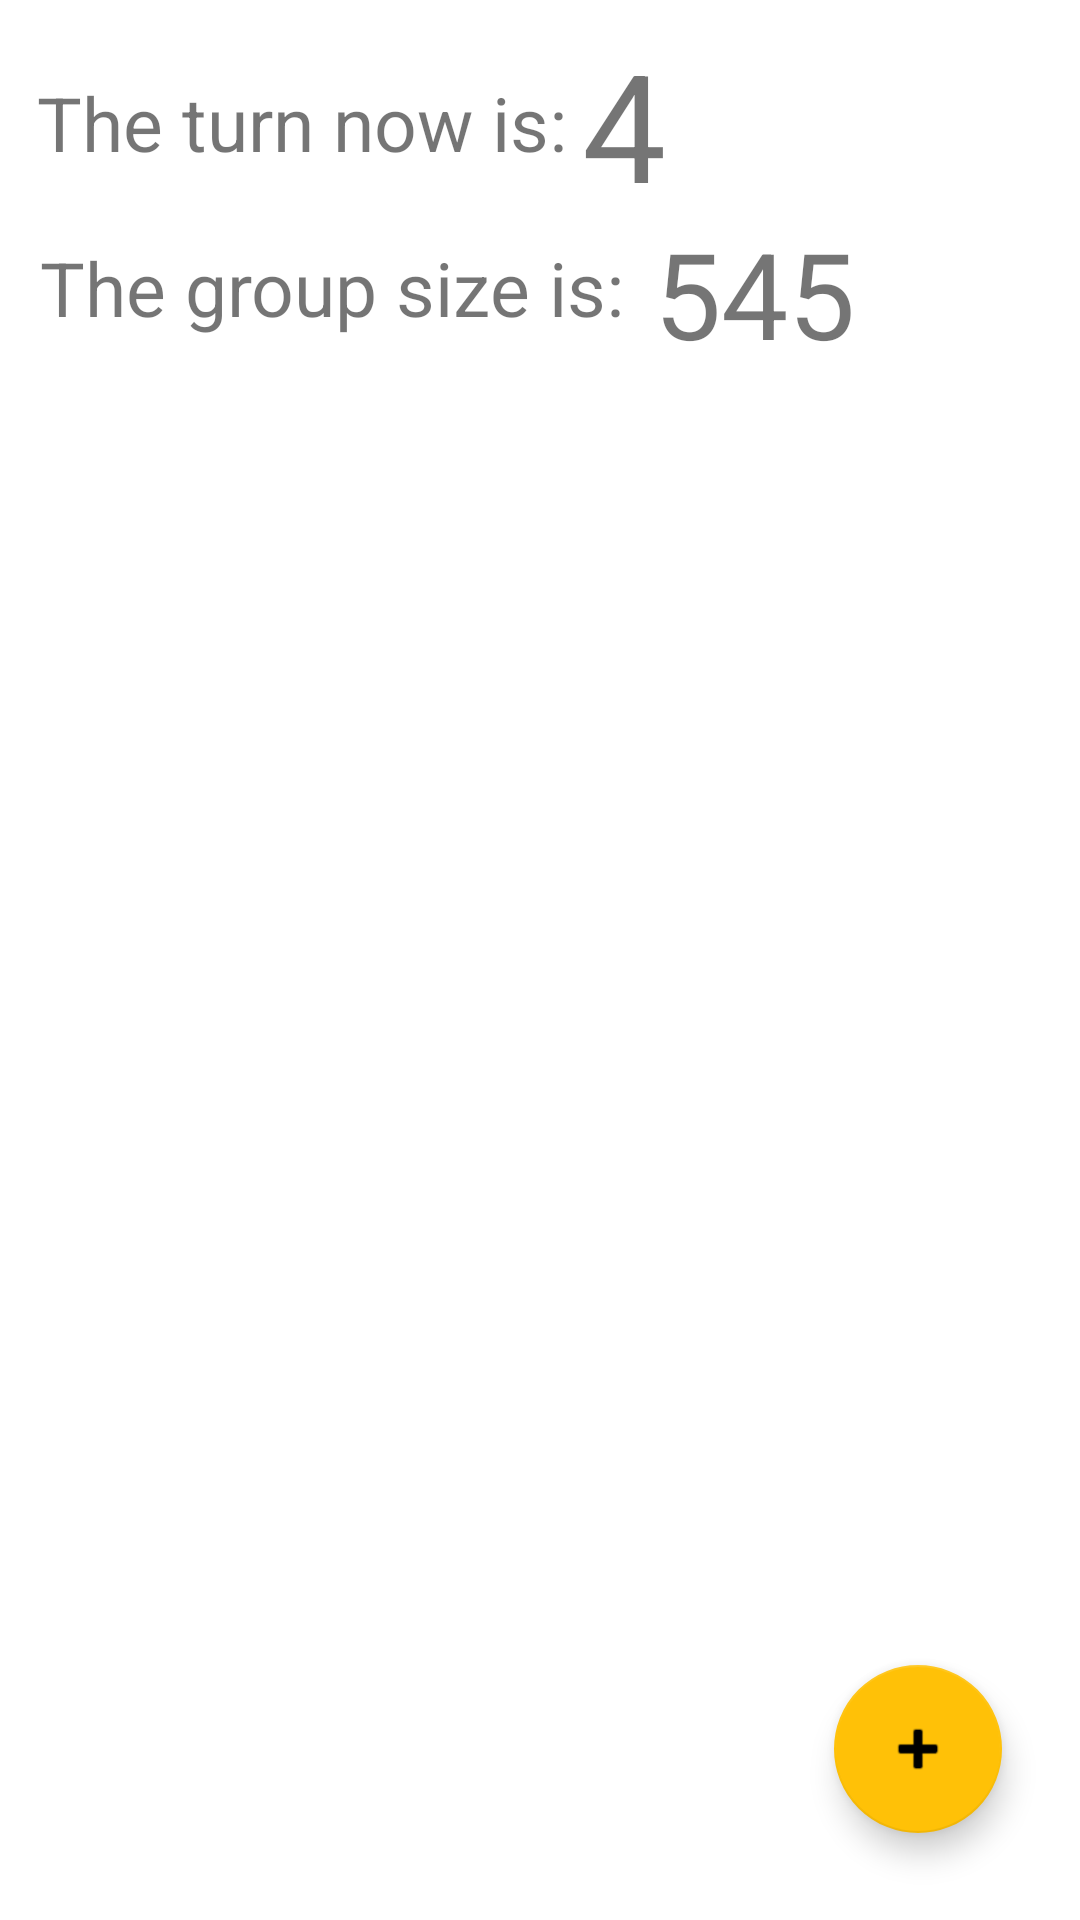

Point at icon controls on the screen. Image size 1080px x 1920px, points as point (x, y).
add: point (918, 1749)
